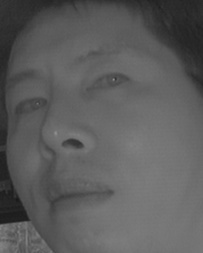eye: (83, 69, 134, 100), (11, 94, 48, 118)
mouth: (40, 176, 114, 221)
